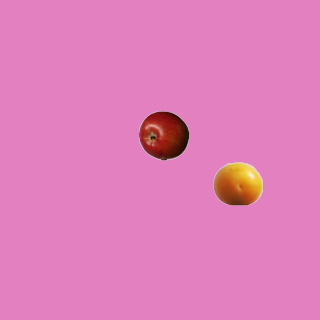Apple Braeburn: (138, 110, 188, 160)
Cherry Wax Yellow: (212, 158, 262, 208)
